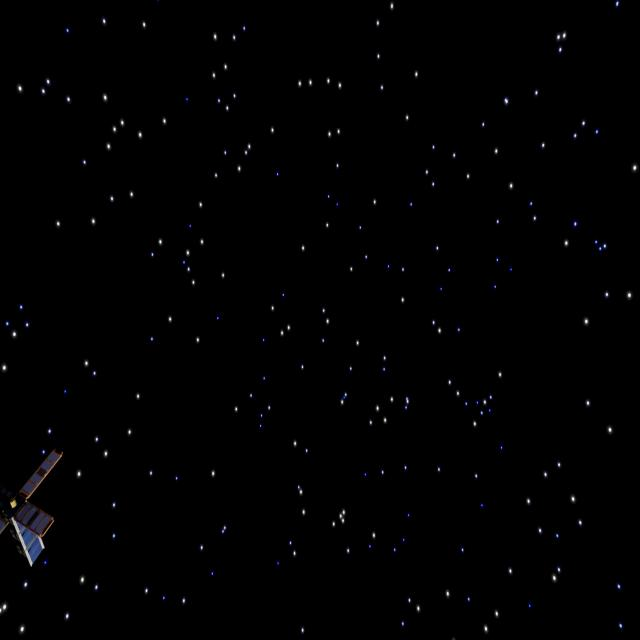satellite: (0, 446, 63, 570)
